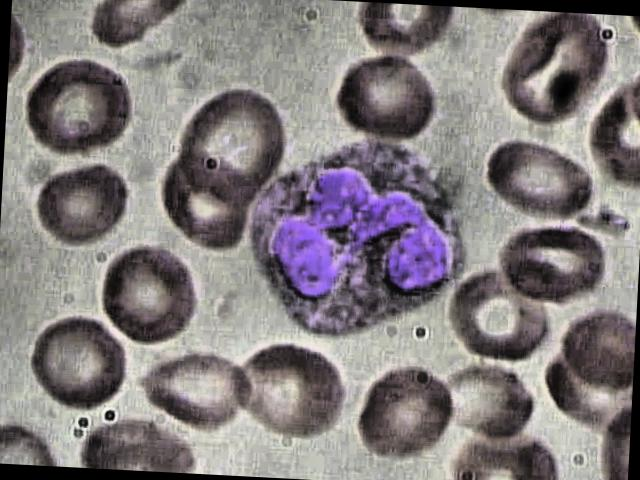RBC: (175, 75, 302, 214), (489, 10, 609, 132), (350, 350, 462, 465), (90, 241, 204, 349), (15, 312, 134, 414), (22, 53, 142, 154), (232, 342, 352, 442), (446, 253, 552, 366), (328, 47, 443, 149), (19, 152, 133, 249), (474, 136, 602, 222), (491, 223, 618, 306), (141, 341, 258, 431), (432, 360, 536, 448)
WBC: (234, 122, 470, 352)
